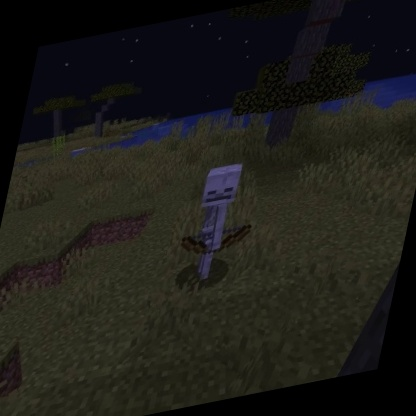skeleton: (167, 153, 271, 290)
